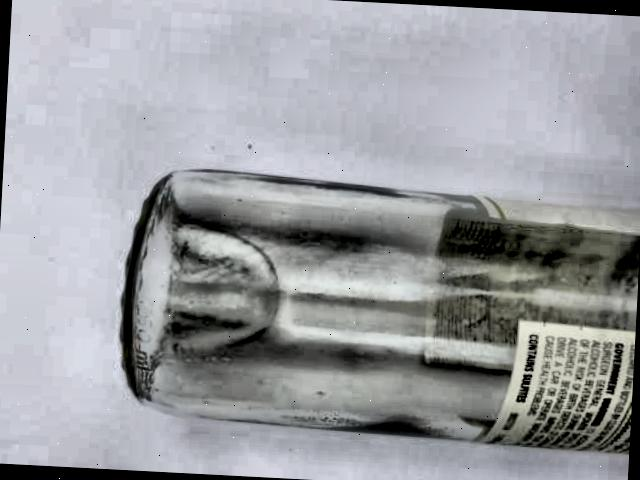Bottles: (95, 124, 640, 480)
